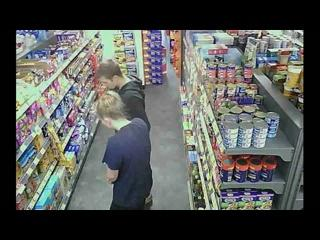Normal: (95, 90, 153, 210), (95, 58, 152, 132)
